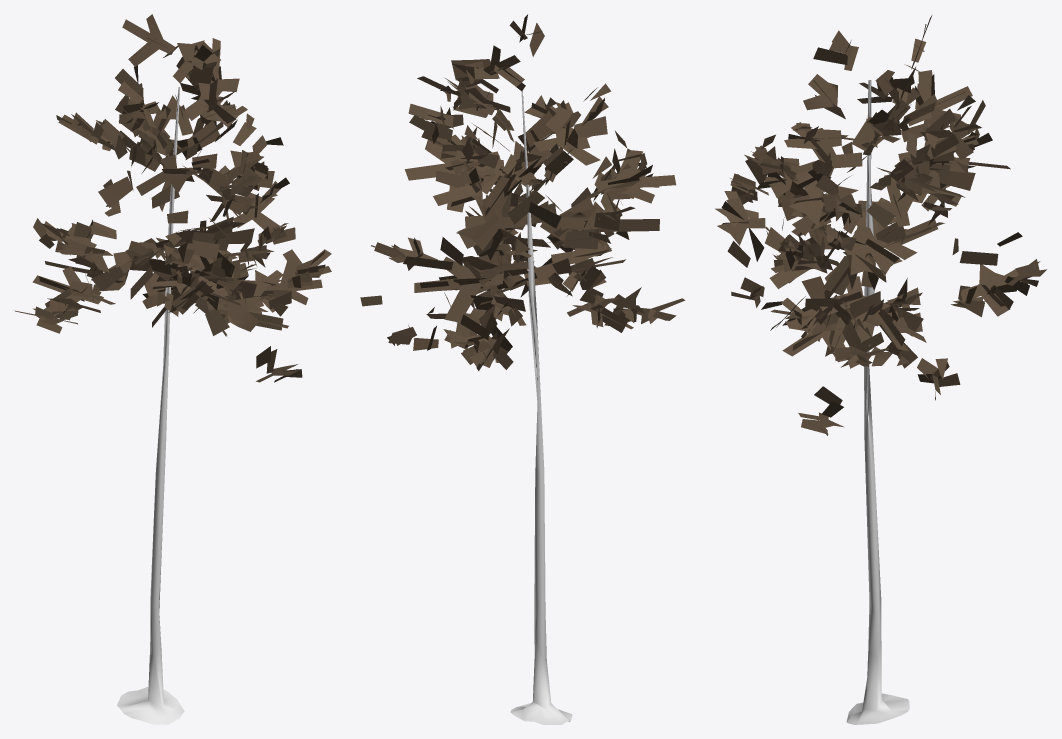
File: fir_c_l.glb
3 views of the same model, side by side, from view 1: azimuth 30°, elevation 25°; view 2: azimuth 150°, elevation 25°; view 3: azimuth 270°, elevation 25° (orthographic). The views are drawn at different scales.
Parts seen in each view (by area): view 1: fir_tree_01_c_LOD2.002; view 2: fir_tree_01_c_LOD2.002; view 3: fir_tree_01_c_LOD2.002.
Boxes of the visible parts, x1,y1,x2,y2 form: fir_tree_01_c_LOD2.002: (14, 14, 331, 724); fir_tree_01_c_LOD2.002: (360, 14, 685, 724); fir_tree_01_c_LOD2.002: (715, 15, 1046, 724).
Bounding box in the file's own units: 6.9 × 14.47 × 6.17.
